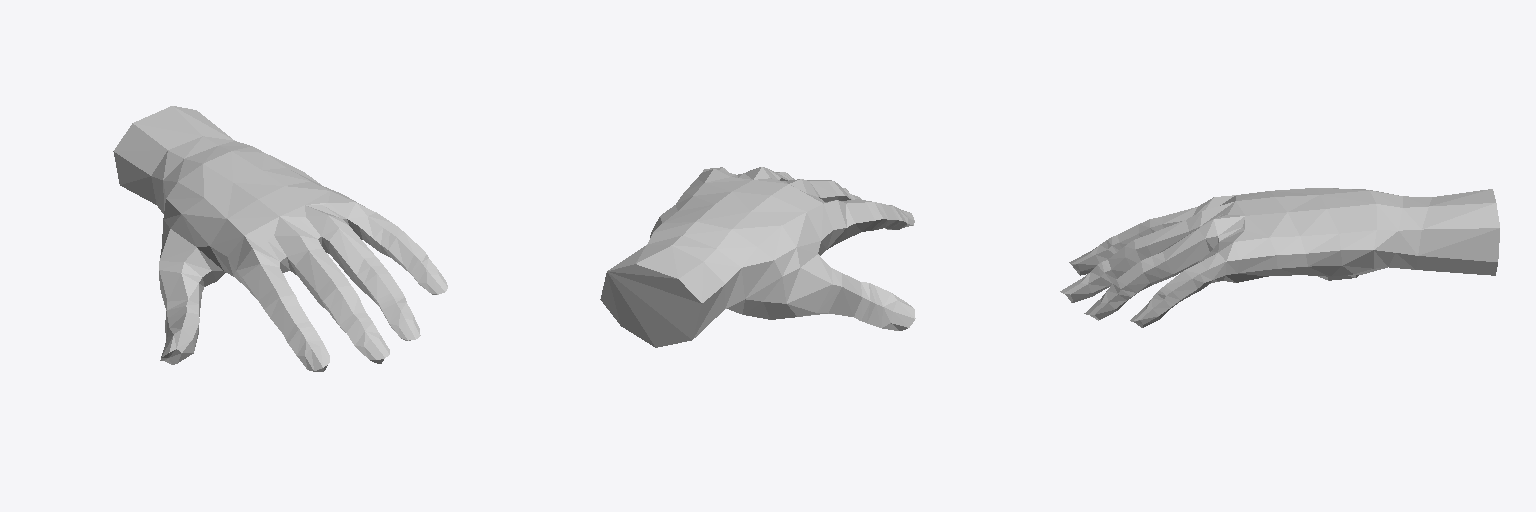
Rendered from hand_left.obj.
The picture shows the model from 3 angles: view 1: azimuth 30°, elevation 25°; view 2: azimuth 150°, elevation 25°; view 3: azimuth 270°, elevation 25°; orthographic projection.
Visible parts, largest first — view 1: Plane005.001_Mesh.001; view 2: Plane005.001_Mesh.001; view 3: Plane005.001_Mesh.001.
Boxes of the visible parts, <box> form: Plane005.001_Mesh.001: <box>113,106,447,371</box>; Plane005.001_Mesh.001: <box>600,167,915,347</box>; Plane005.001_Mesh.001: <box>1060,188,1499,327</box>.
Bounding box in the file's own units: 0.6644 × 0.3417 × 1.05.